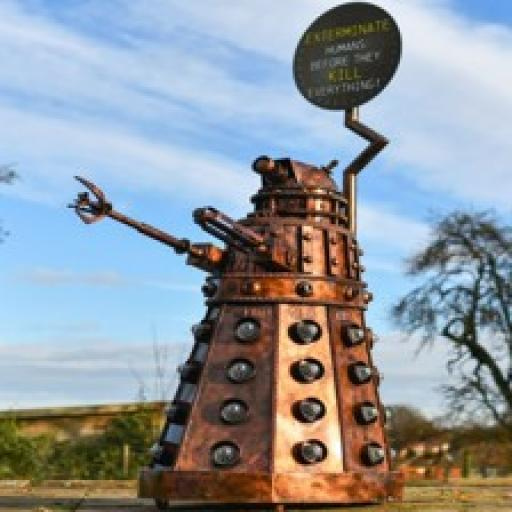dalek: (44, 155, 402, 509)
